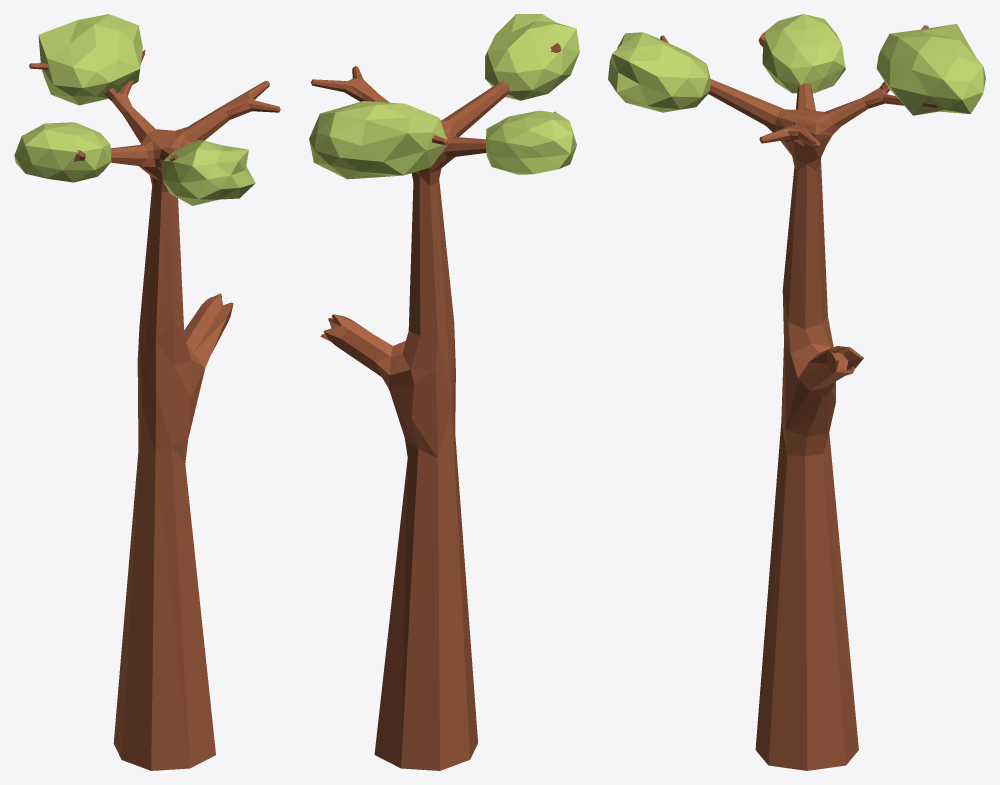
The model's file is MammutTree_3.fbx.
3 views of the same model, side by side, from view 1: azimuth 30°, elevation 25°; view 2: azimuth 150°, elevation 25°; view 3: azimuth 270°, elevation 25° (orthographic). The views are drawn at different scales.
Parts seen in each view (by area): view 1: MammutTree3_mesh; view 2: MammutTree3_mesh; view 3: MammutTree3_mesh.
Part boxes in pixels (bbox=[...]): MammutTree3_mesh: bbox=[14, 14, 280, 770]; MammutTree3_mesh: bbox=[309, 14, 579, 770]; MammutTree3_mesh: bbox=[608, 14, 985, 770].
Bounding box in the file's own units: 745 × 1943 × 923.
